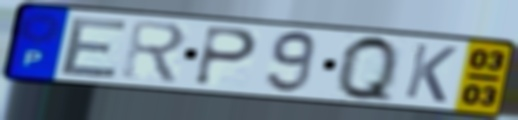9: (261, 29, 319, 96)
E: (56, 15, 132, 79)
K: (401, 41, 460, 105)
P: (191, 24, 261, 89)
Q: (336, 32, 401, 106)
R: (119, 18, 189, 87)
